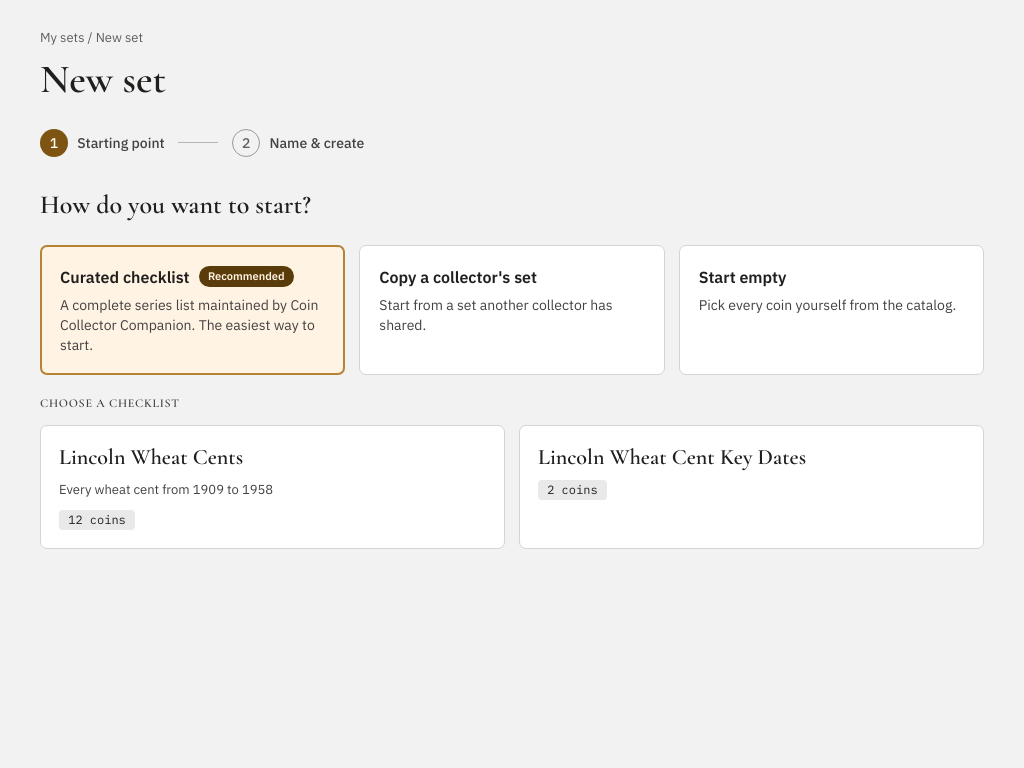
Test: NewSetPage › criterion 5: step indicator › clicking the step-1 button on step 2 goes back to step 1 with the option kept
Click the radio button with test id "set-new-option-blank" at (831, 310), box [679,245,984,375]
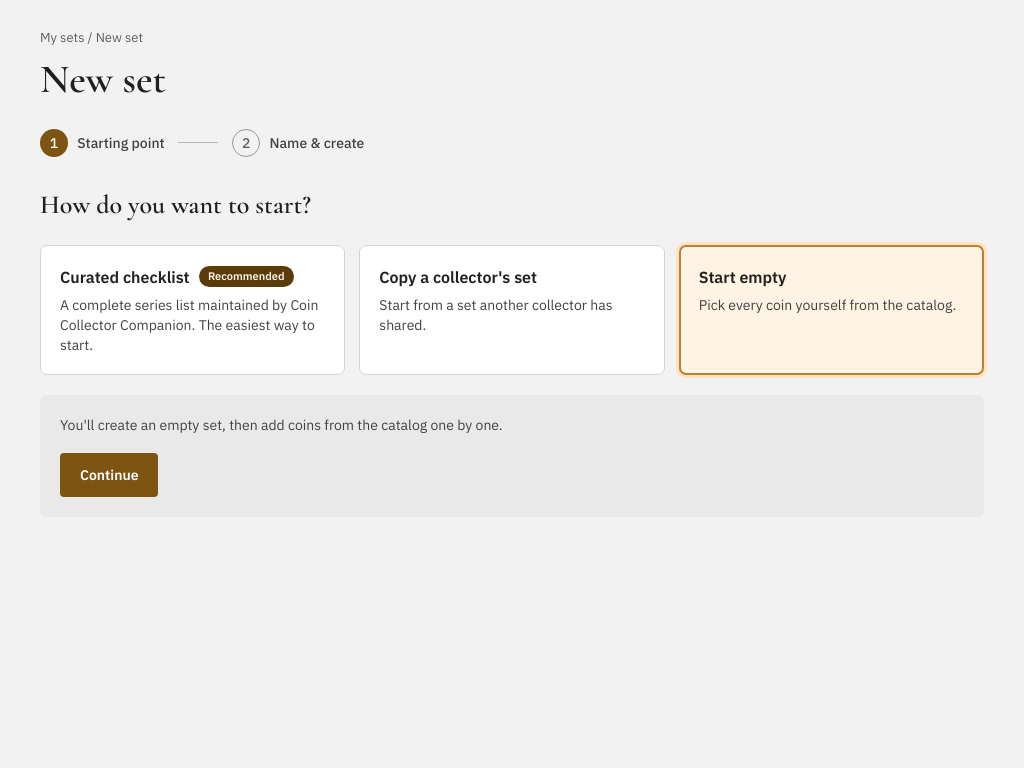
Click the button with test id "set-new-continue" at (109, 475), box [60,453,158,497]
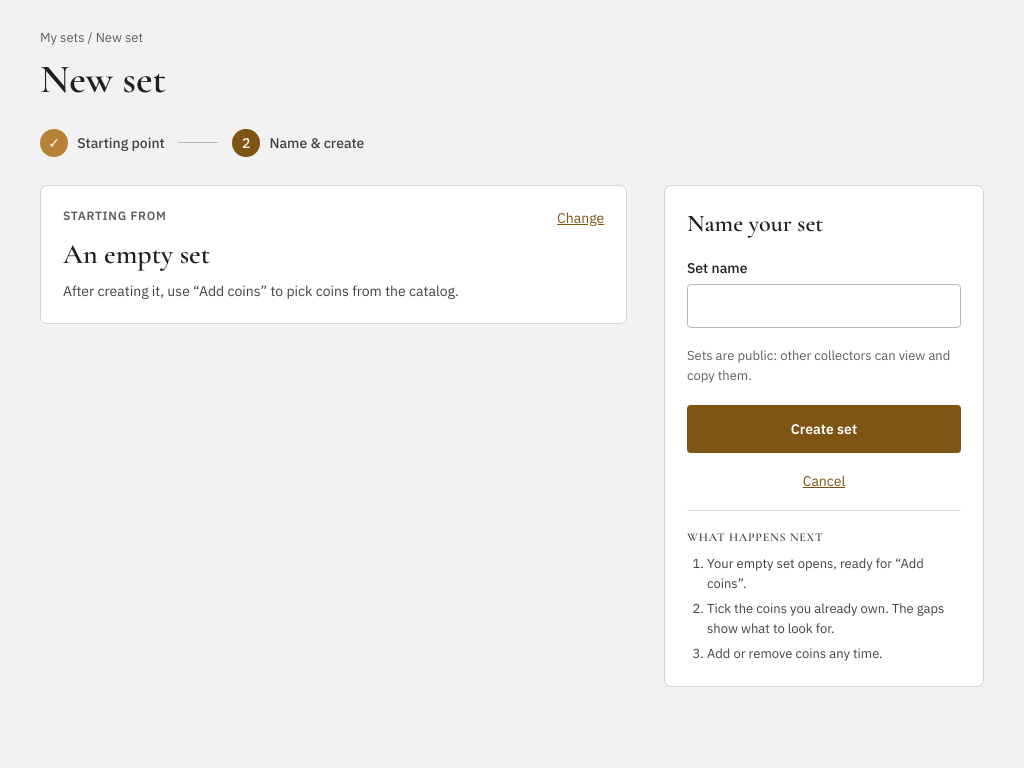
Result: the element with test id "set-new-step-2" is shown
Click the button with test id "set-new-stepper-1" at (102, 143), box [40,129,165,157]
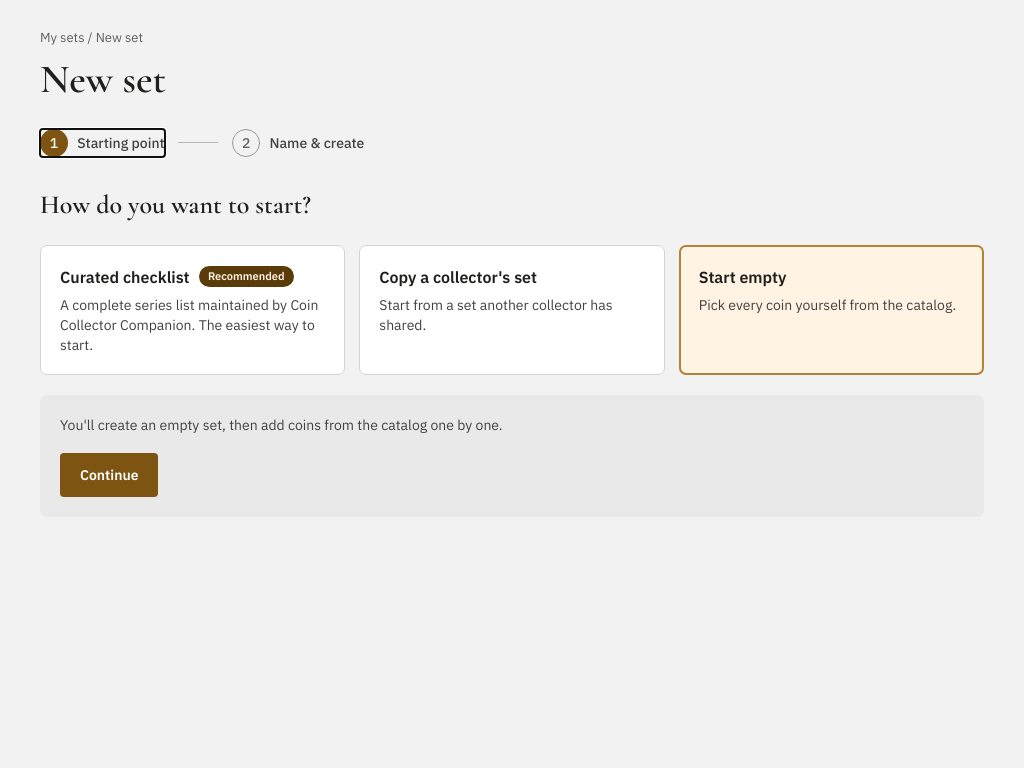
Result: the element with test id "set-new-step-1" is shown at [40,184,984,517]
Result: the element with test id "set-new-step-2" is gone
